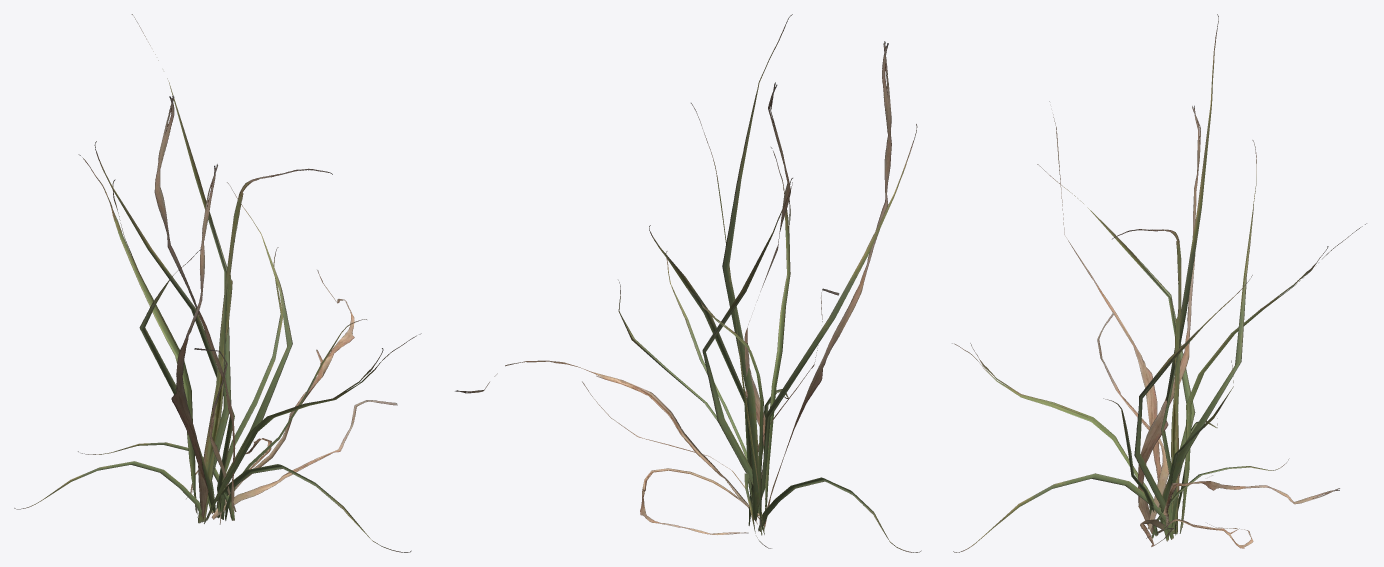
The model's file is grass_medium_02_a.glb.
3 renders of one model, left to right at view 1: azimuth 30°, elevation 25°; view 2: azimuth 150°, elevation 25°; view 3: azimuth 270°, elevation 25°, orthographic. The views are drawn at different scales.
Visible parts, largest first — view 1: grass_medium_02_a__lod0; view 2: grass_medium_02_a__lod0; view 3: grass_medium_02_a__lod0.
Boxes of the visible parts, <box> form: grass_medium_02_a__lod0: <box>14,14,421,552</box>; grass_medium_02_a__lod0: <box>455,14,921,552</box>; grass_medium_02_a__lod0: <box>952,14,1366,552</box>.
Bounding box in the file's own units: 0.1191 × 0.1569 × 0.1198.
Materials: 1 (1 with a texture image).
